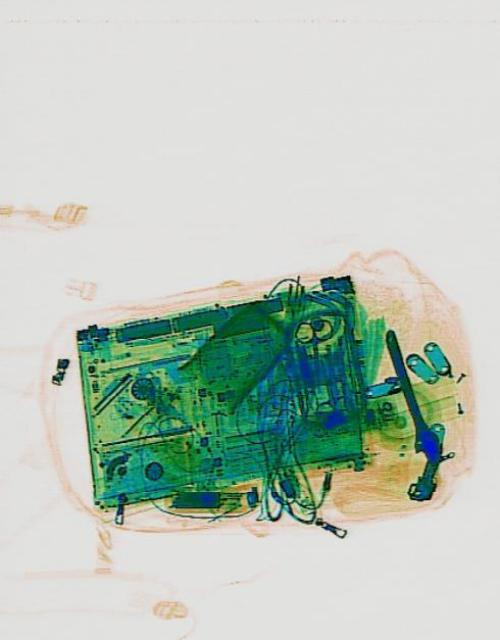Wrench: (373, 320, 444, 470)
